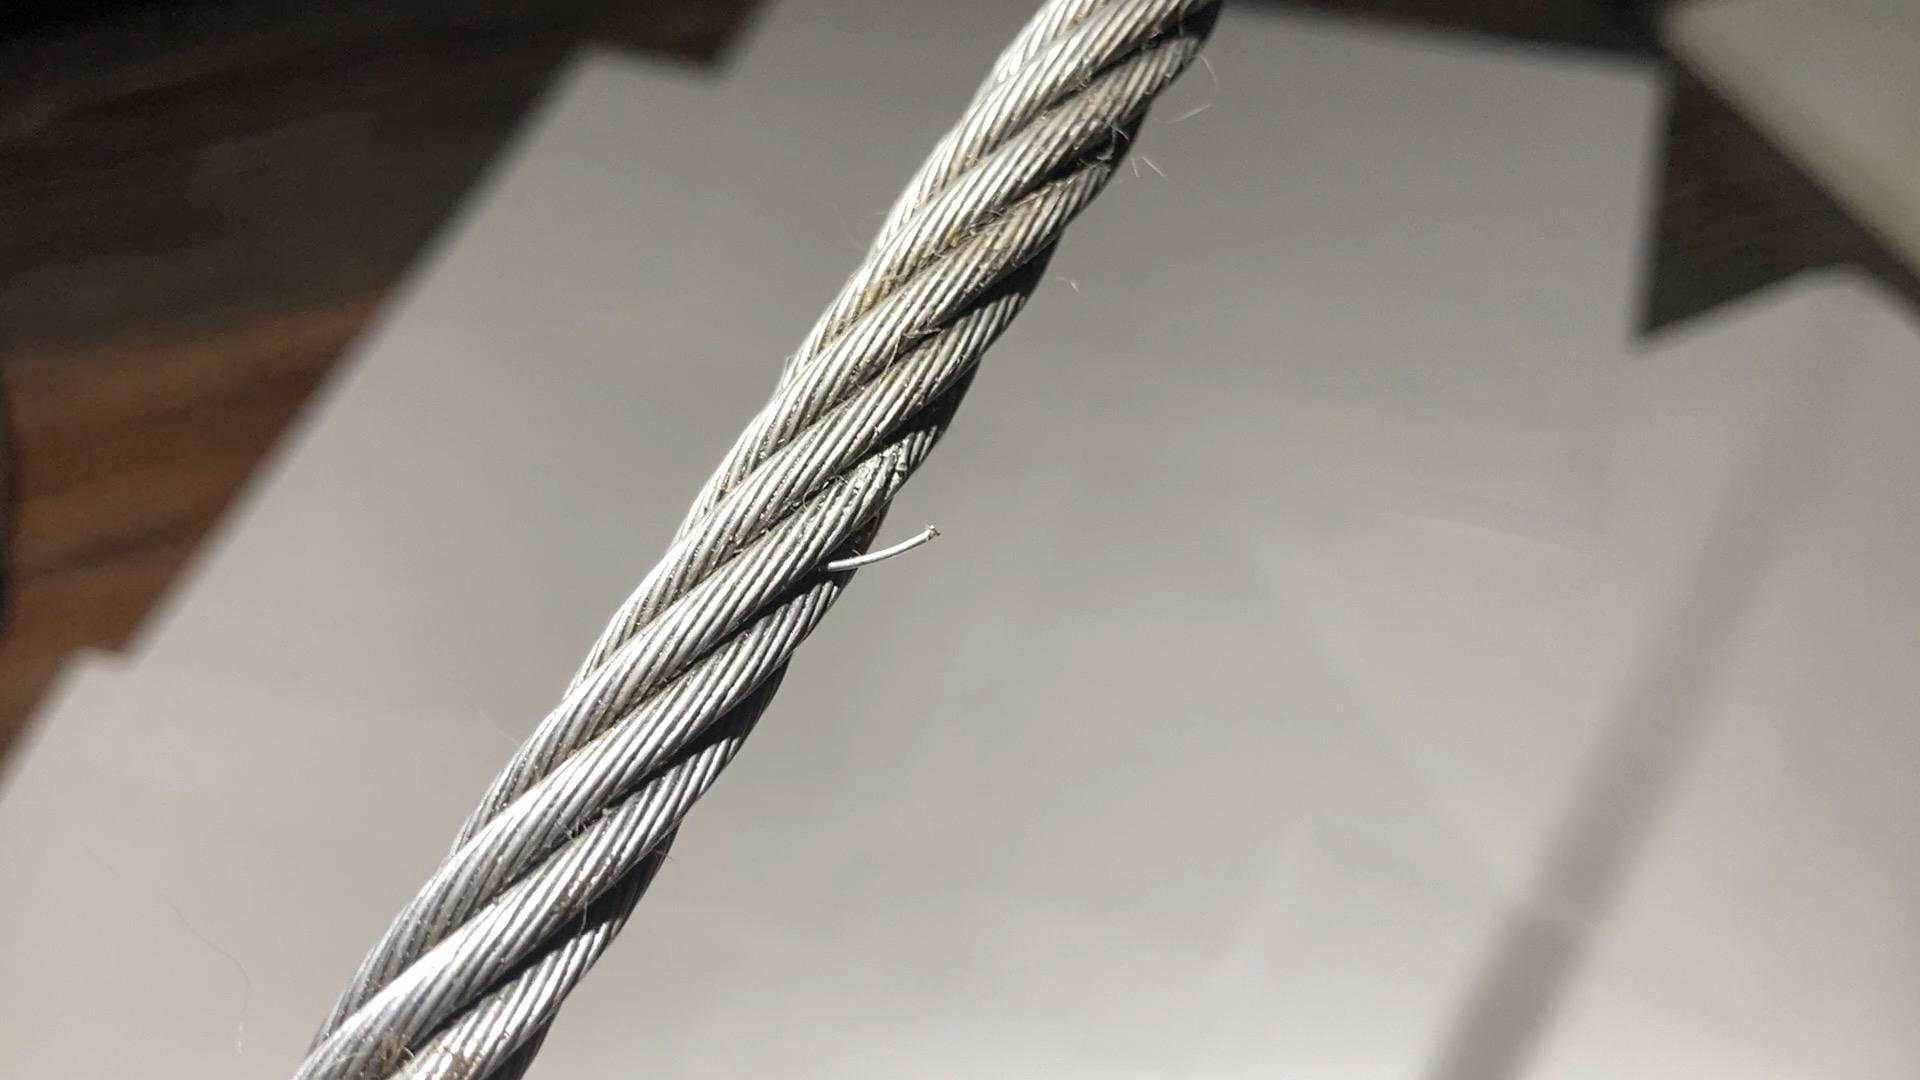break: (811, 487, 957, 593)
